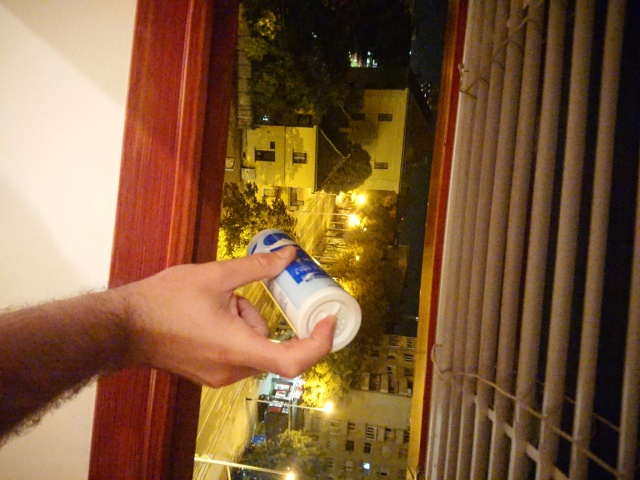Solana Pag Fine Sea Salt 250g: (243, 225, 365, 358)
